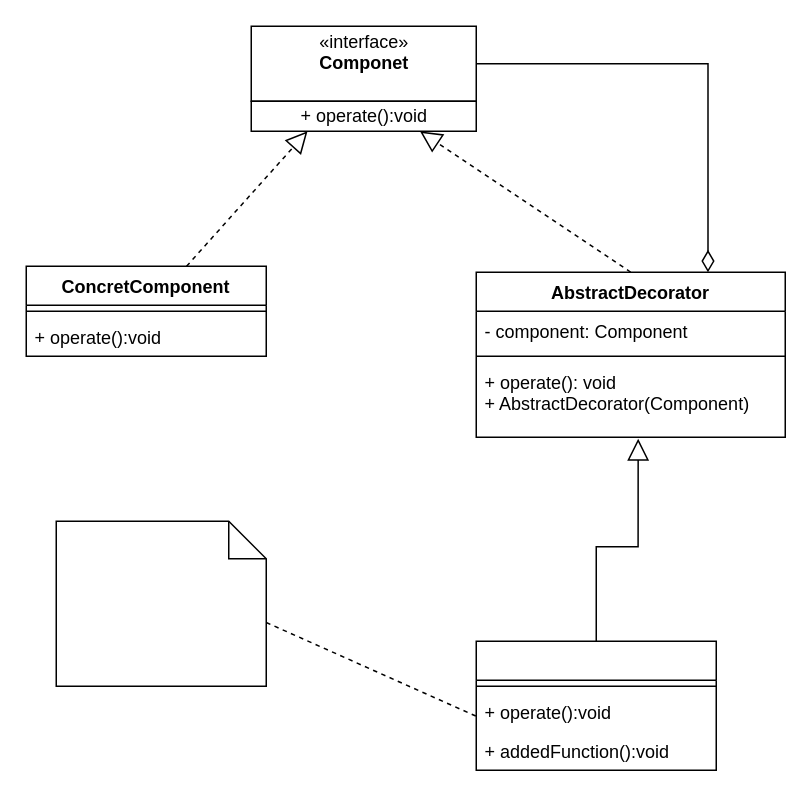
The diagram is 812 pixels wide and 801 high, and some of its shapes have lost their labels. The shapes that lost their labels are listed below. From the top down, each one's box as (x1, y1, x2, y2) in pixels, then its label:
(55, 520, 266, 686): public void operator(){ component.operation(); addedFunction() }
(475, 640, 716, 770): DecoratorA
